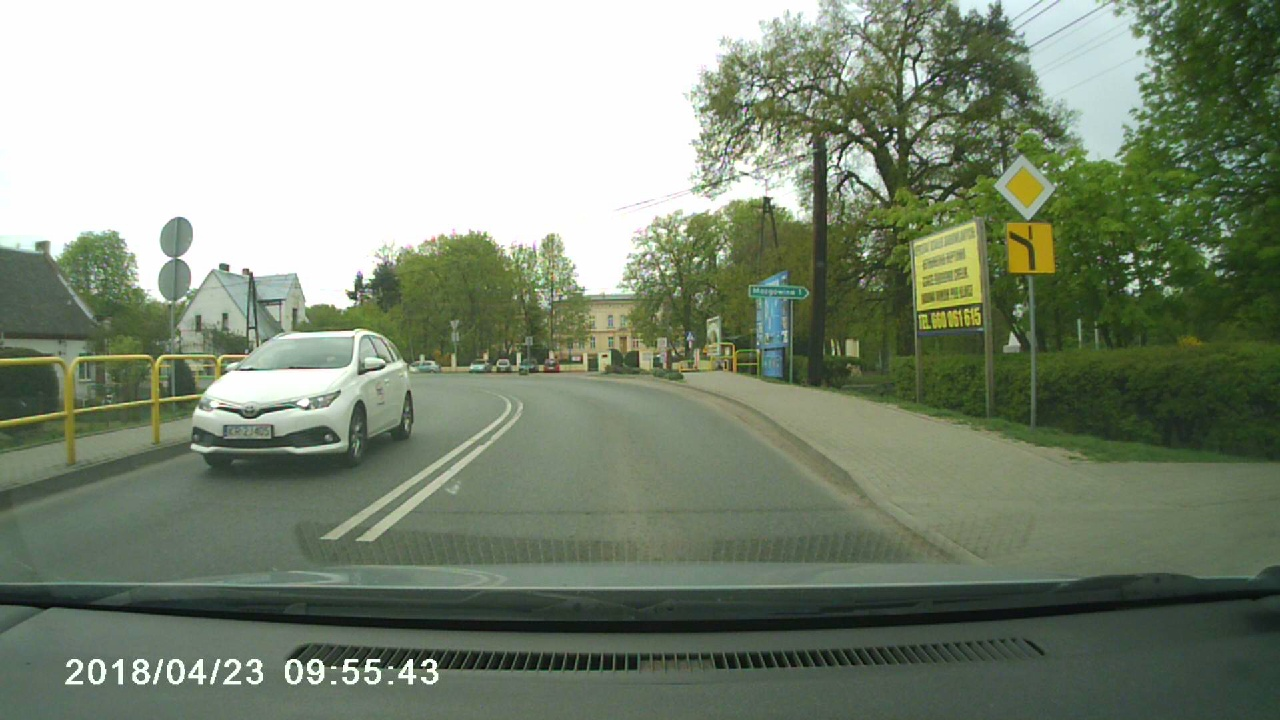D1: (993, 155, 1056, 222)
